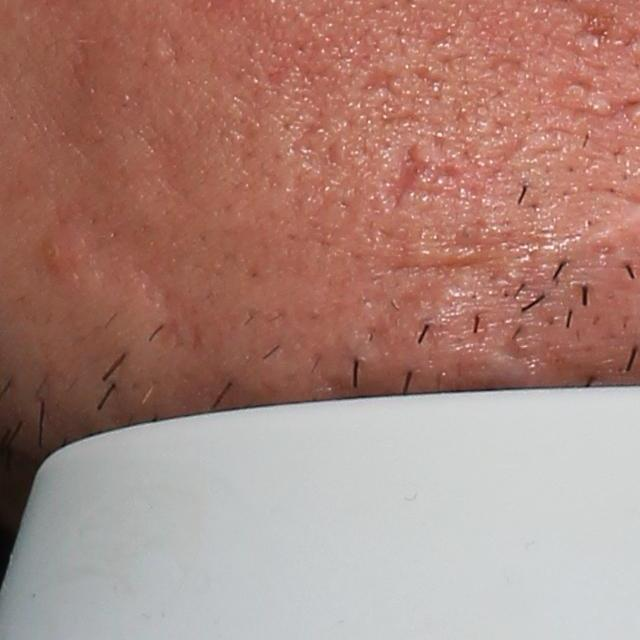atrophic_scar: (386, 142, 444, 213), (158, 21, 195, 76), (357, 66, 402, 99), (553, 70, 602, 97), (375, 108, 424, 129)
